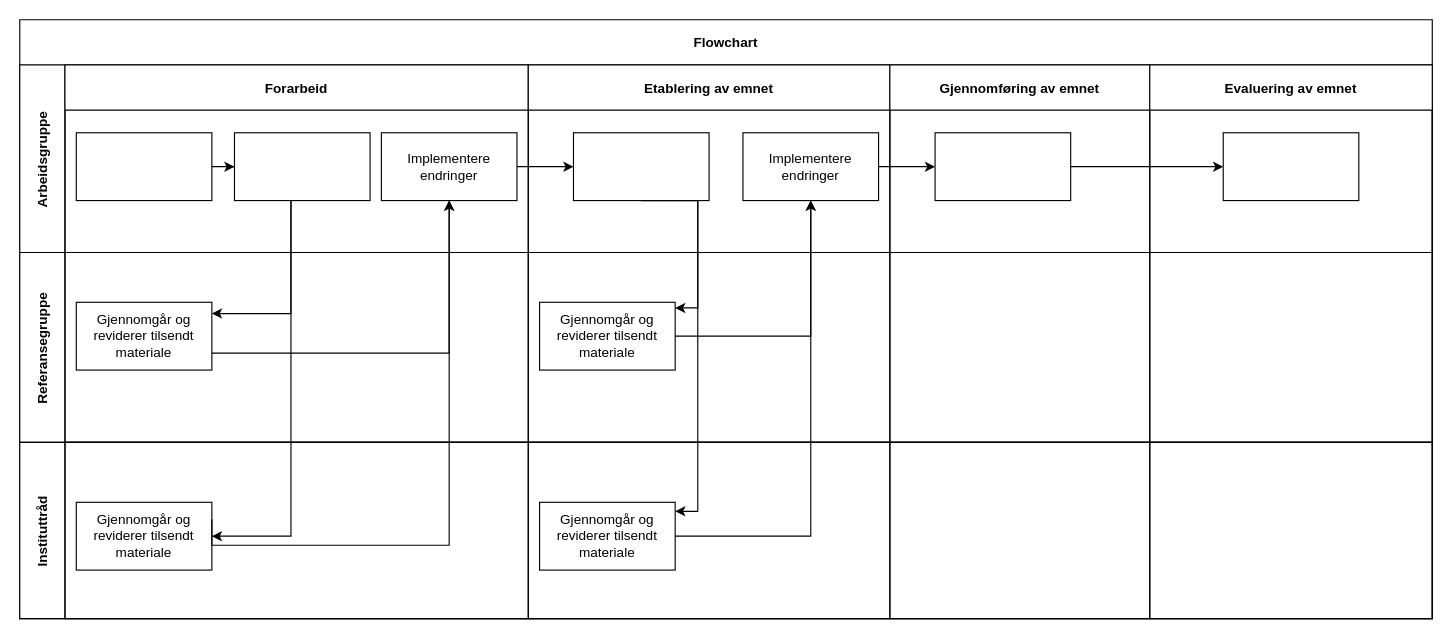
Image size: 1452x638. Some labels were removed from this diagram. Each missing label, with the centre of its shape:
"Evaulering av gjennomførelsen" goes at pixel 1290 166.
"Gjennomfører undervisning" goes at pixel 1002 166.
"Innhente data om eksisterende emner" goes at pixel 143 166.
"Redegjør emneplan og læringsutbytte" goes at pixel 640 166.
"Redegjøre mangler og forbedringsområder" goes at pixel 301 166.
